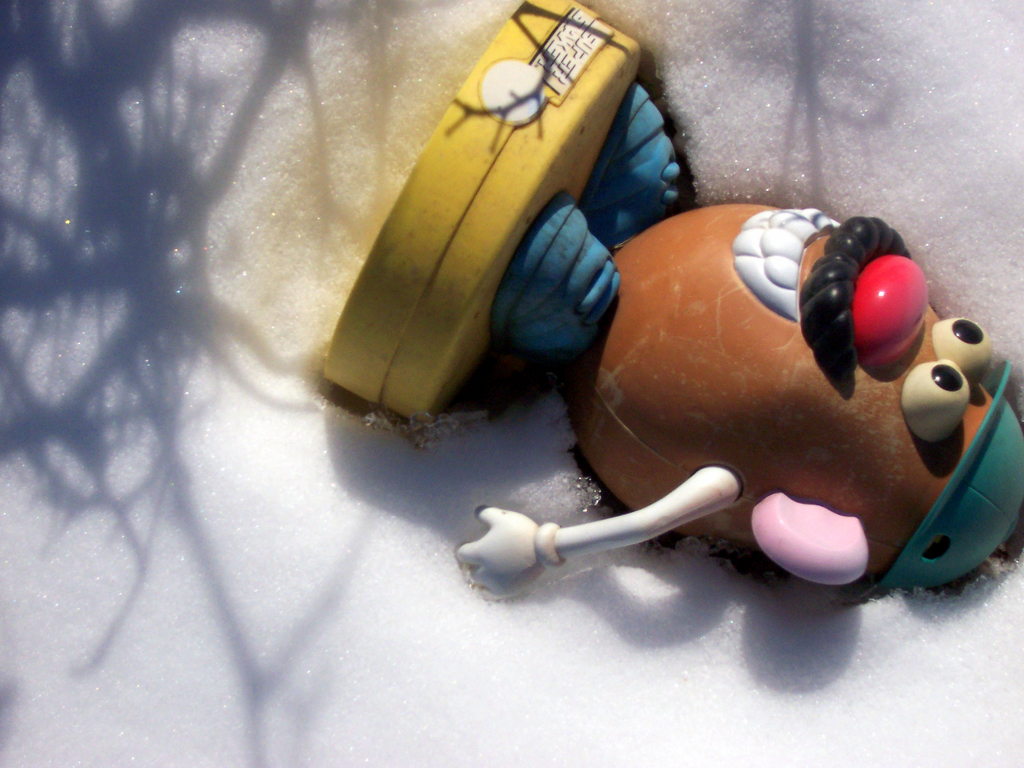Human_hand: (457, 502, 570, 588)
